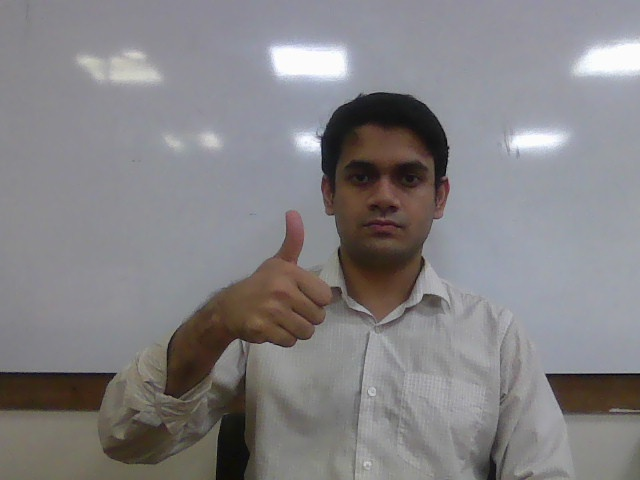Bhalo: (225, 209, 333, 349)
